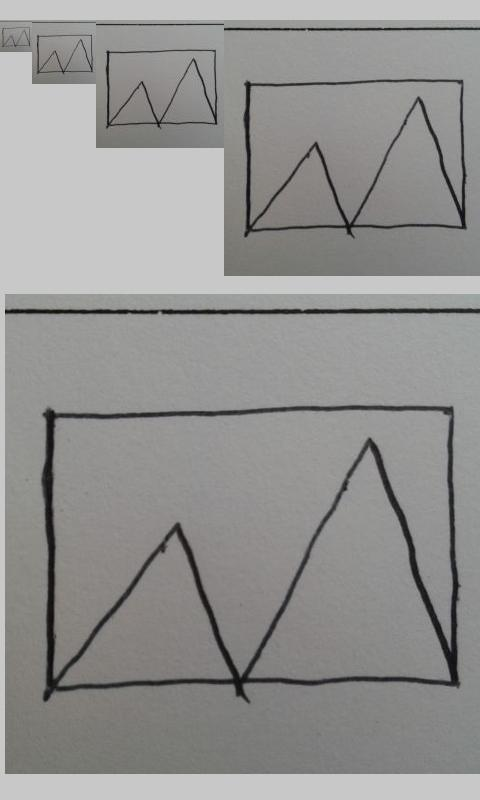image_view: (40, 401, 459, 690), (244, 80, 467, 233), (106, 49, 217, 126), (36, 34, 93, 73), (2, 27, 31, 47)
